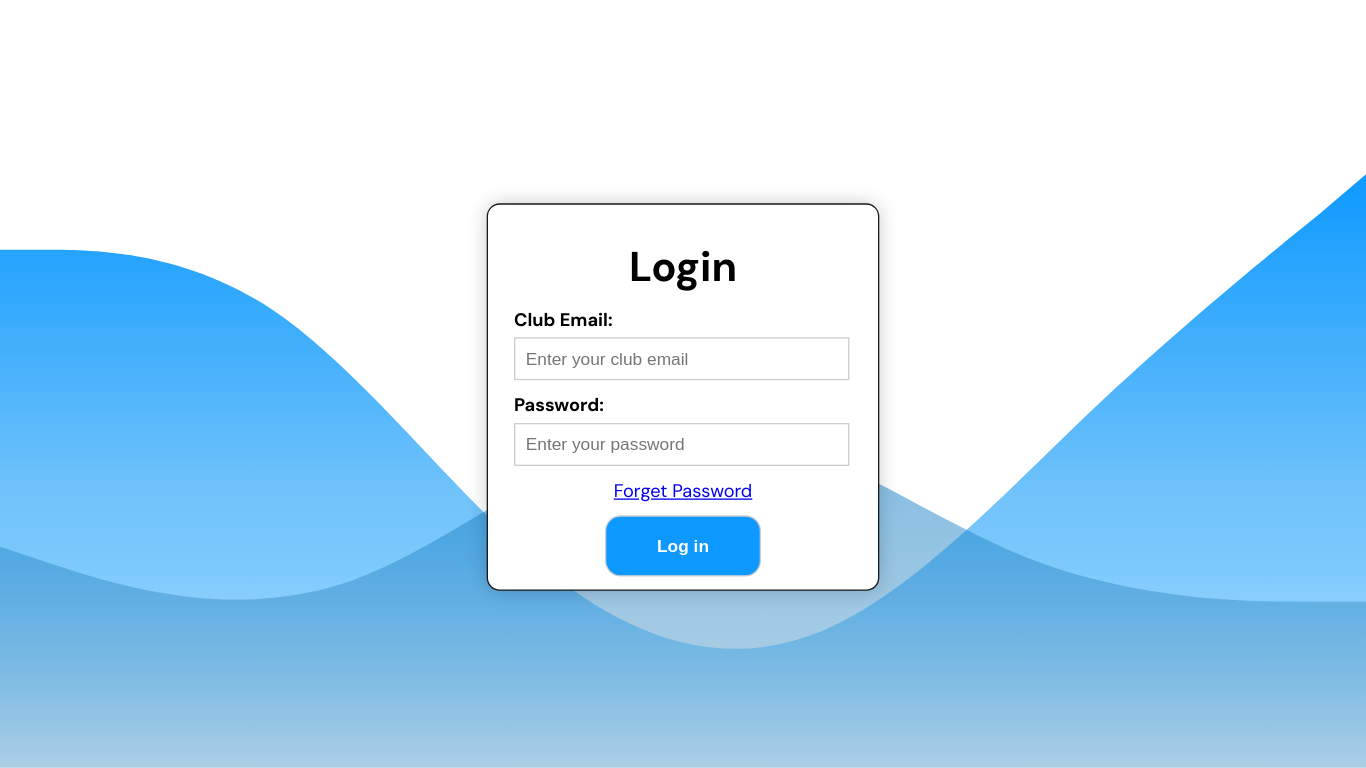
it: Login Form Validation › should reject the login due to empty password field
The image size is (1366, 768).
In the field with placeholder "Enter your club email": (682, 358) [514,337,849,380], type "testfre@club.sutd.edu.sg"
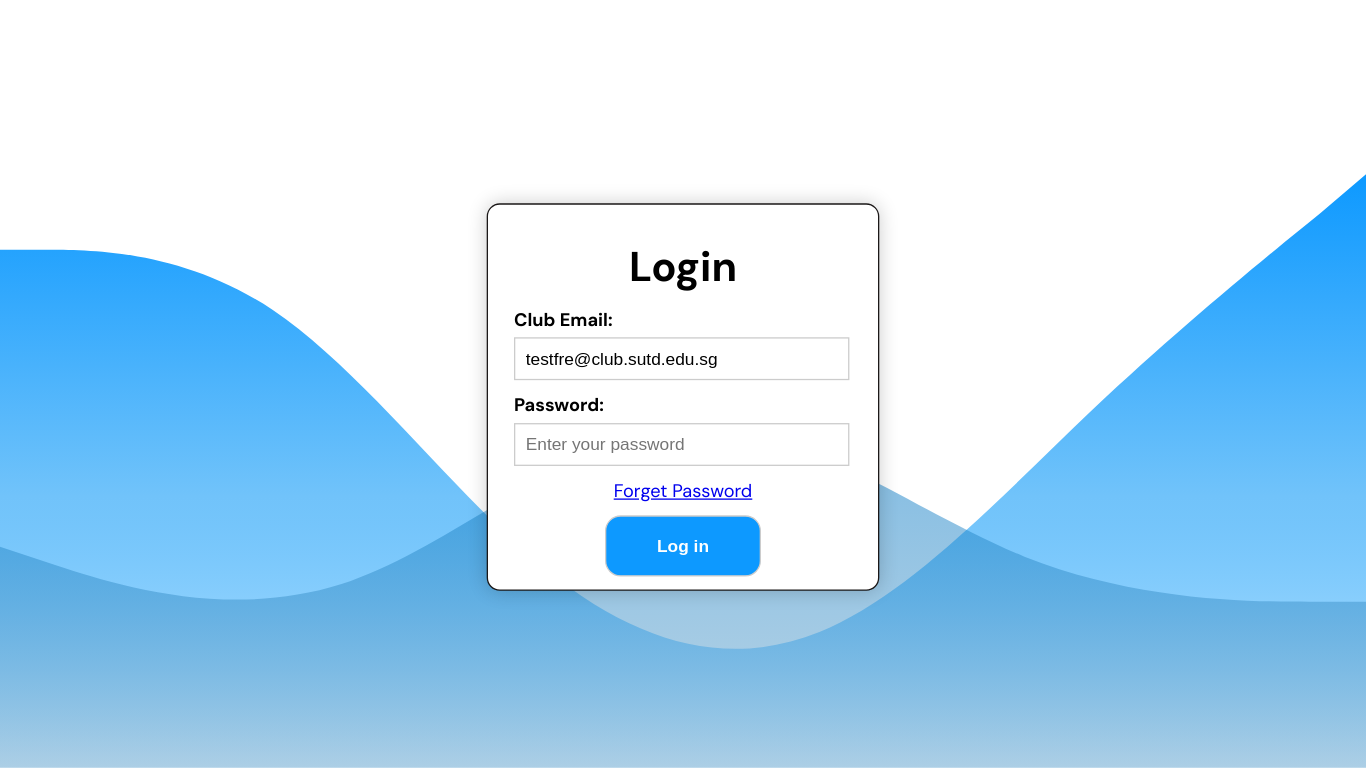
Click the button with test id "Log in": (683, 546) [605,515,761,576]
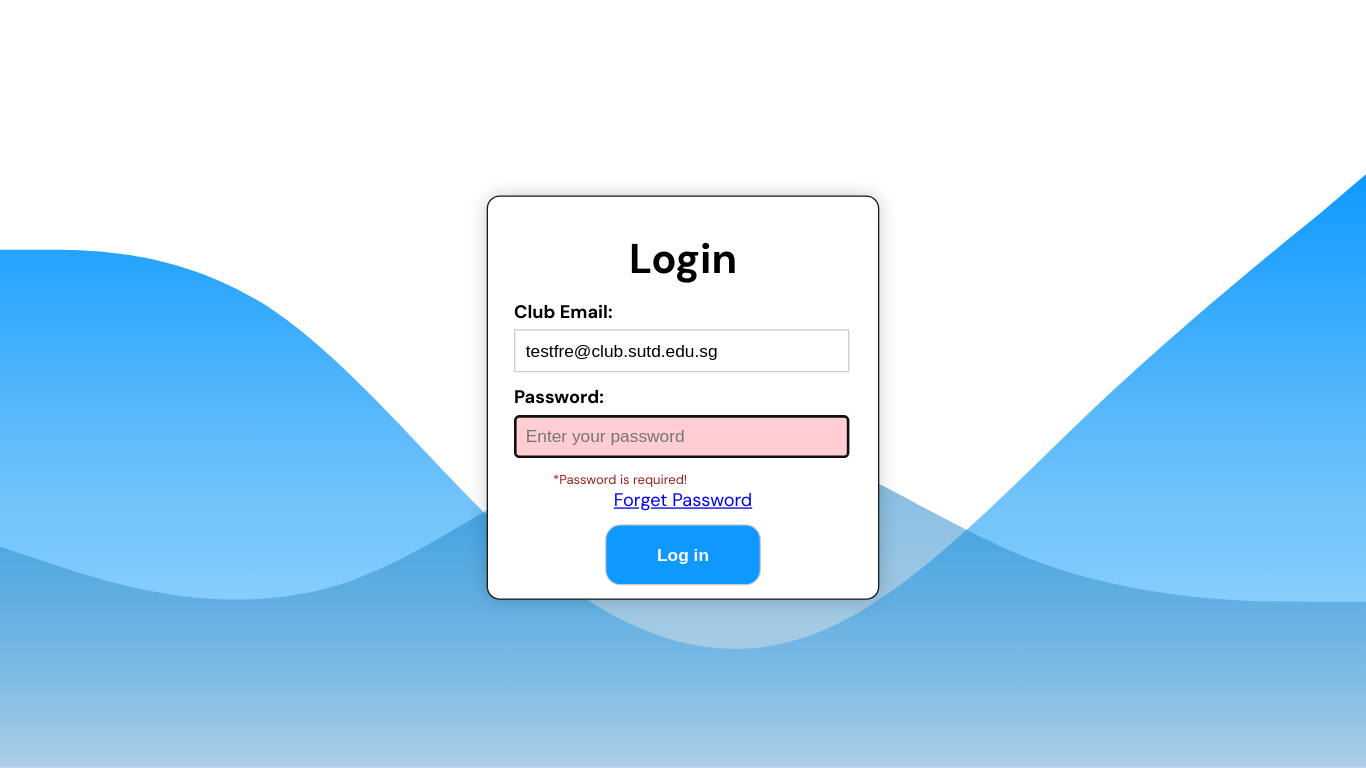
Check: the text "*Password is required!" is shown, box [553,470,687,487]
